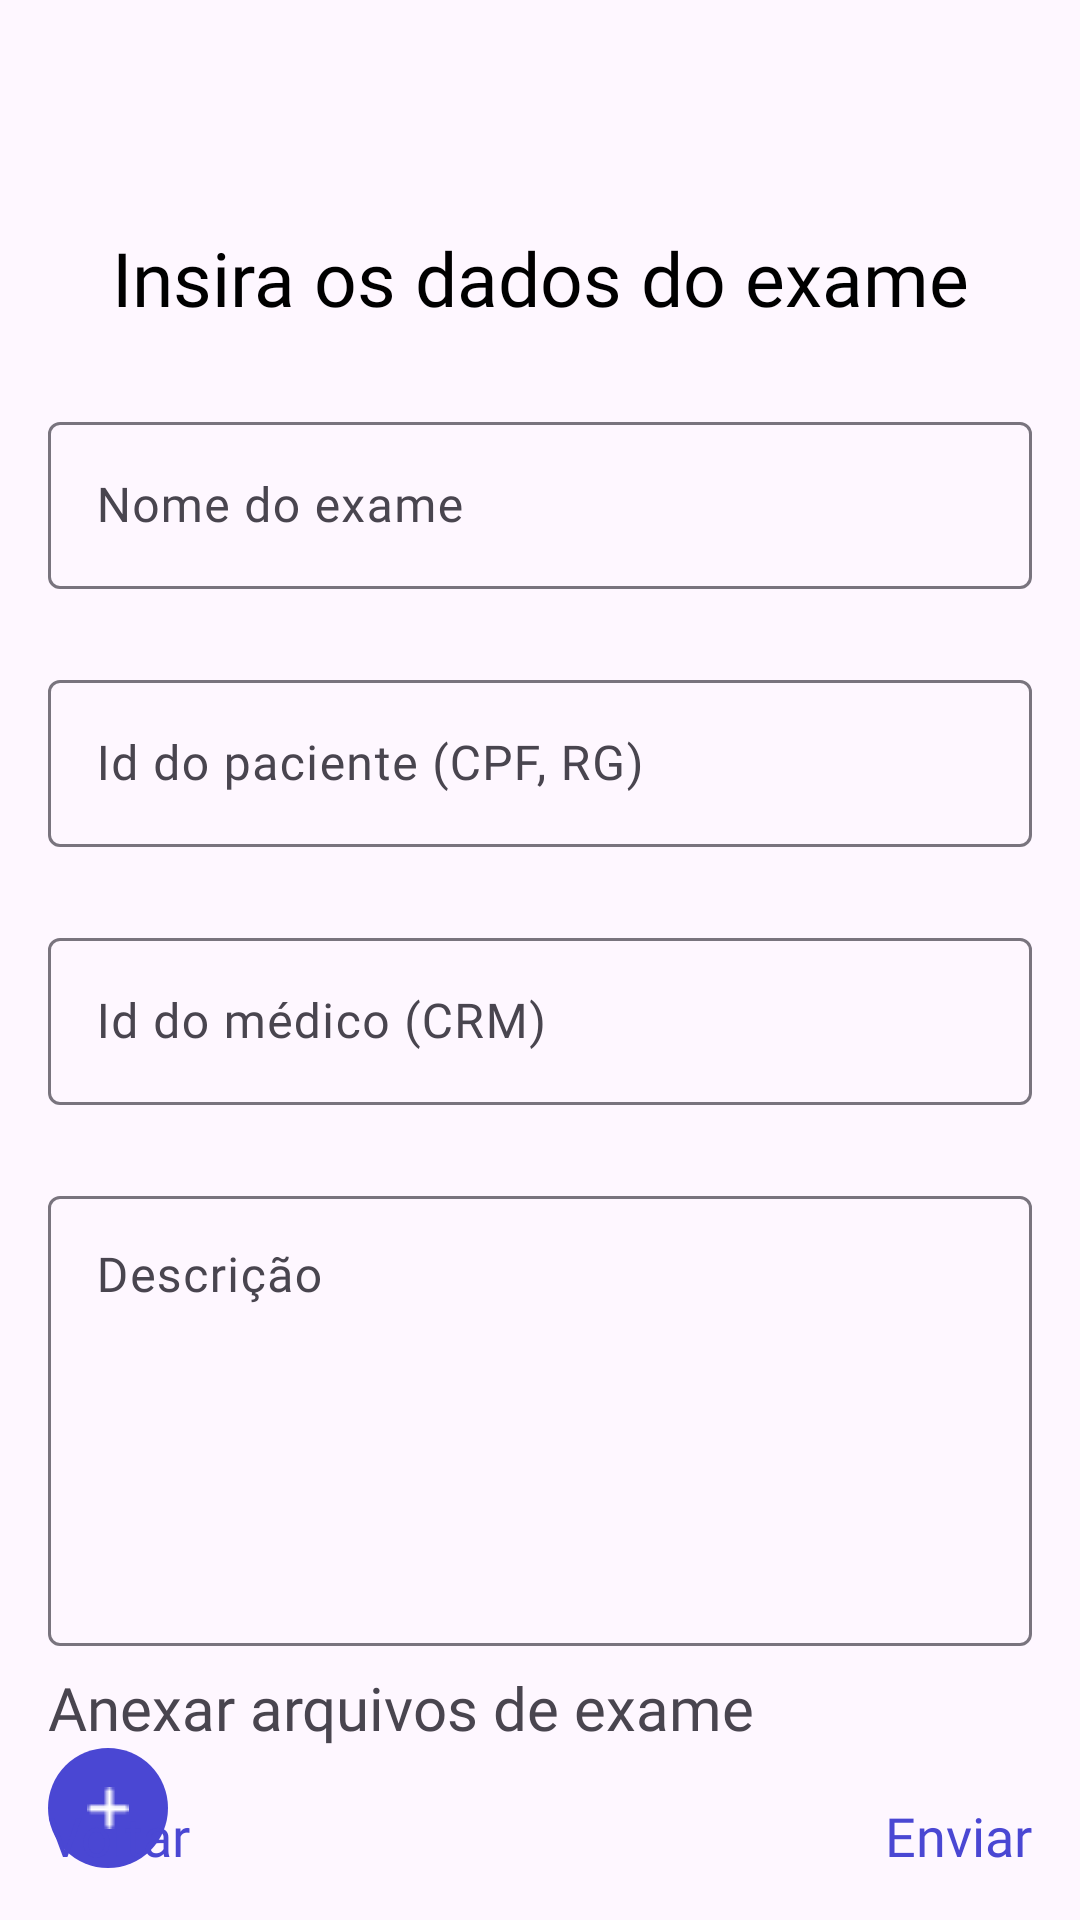

Named icons in this screenshot (1080*1920) and their bounding boxes, bbox=[x1, y1, x2, y2]:
Add button: bbox=[48, 1748, 168, 1868]
